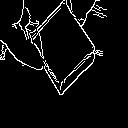cube: (23, 3, 104, 94)
